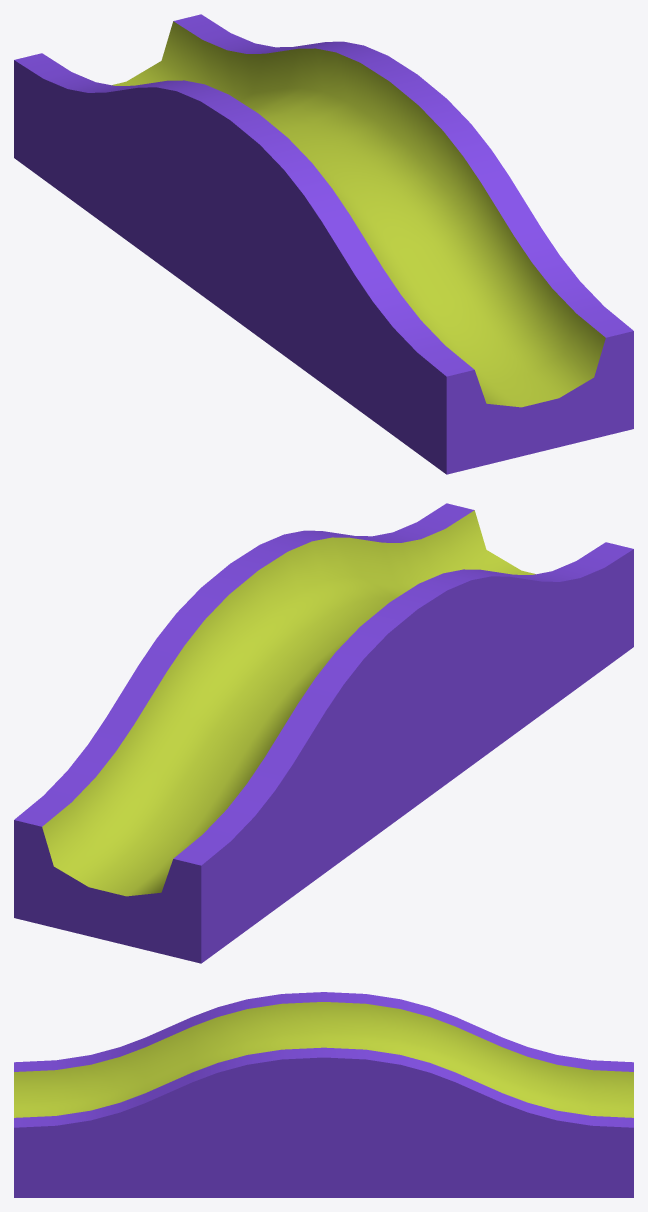
The model's file is bump_solid_B-col.dae.
The picture shows the model from 3 angles, top to bottom: view 1: azimuth 30°, elevation 25°; view 2: azimuth 150°, elevation 25°; view 3: azimuth 270°, elevation 25°; orthographic projection. The views are drawn at different scales.
Parts seen in each view (by area): view 1: bump_solid_B-col; view 2: bump_solid_B-col; view 3: bump_solid_B-col.
Part boxes in pixels (left/top/right/bottom): bump_solid_B-col: left=14, top=14, right=633, bottom=474; bump_solid_B-col: left=14, top=503, right=633, bottom=963; bump_solid_B-col: left=14, top=992, right=633, bottom=1197.
Size of the model in its own units: 1 by 4 by 1.
